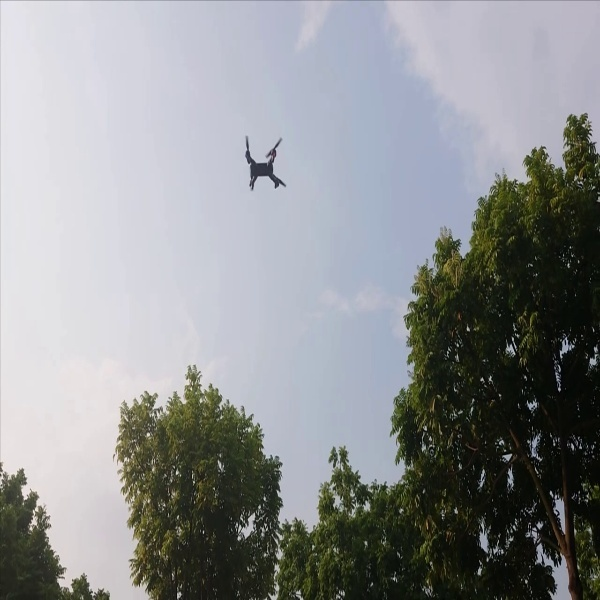drone: (238, 129, 295, 198)
